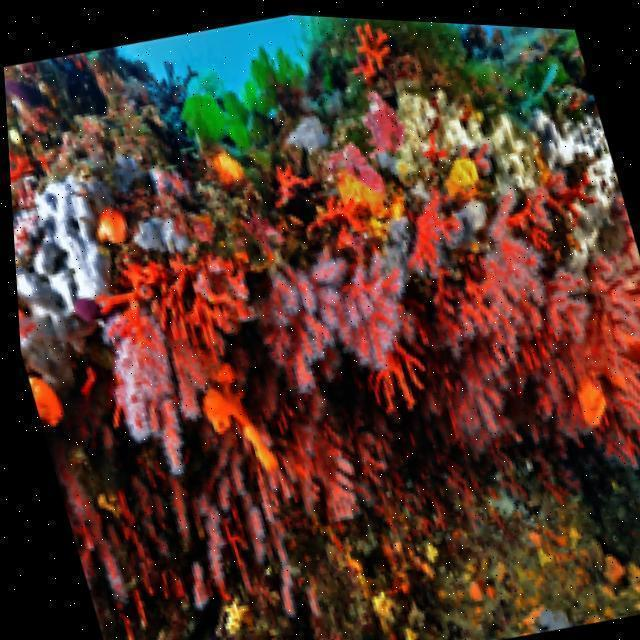Bleached Coral: (5, 111, 109, 342), (526, 93, 625, 176)
Healthy Coral: (398, 183, 640, 469), (219, 164, 453, 445), (115, 195, 280, 473), (125, 14, 339, 195), (338, 99, 515, 236), (170, 339, 291, 516), (323, 13, 422, 86)
